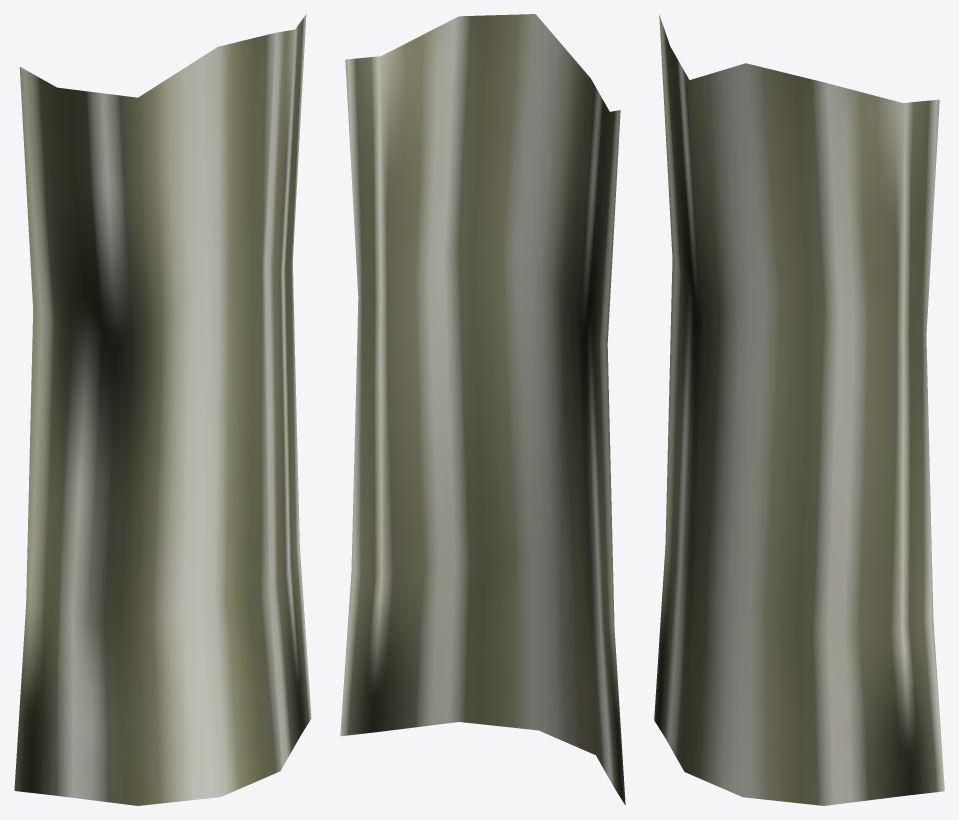
Rendered from pir_m_efx_chr_tubeRays.fbx.
3 renders of one model, left to right at view 1: azimuth 30°, elevation 25°; view 2: azimuth 150°, elevation 25°; view 3: azimuth 330°, elevation 25°, orthographic. The views are drawn at different scales.
Visible parts, largest first — view 1: pPipe3; view 2: pPipe3; view 3: pPipe3.
Part boxes in pixels (x1,y1,x2,y2): pPipe3: (14, 14, 311, 805); pPipe3: (340, 14, 625, 805); pPipe3: (654, 15, 944, 805).
Bounding box in the file's own units: 346 × 832 × 117.
1 material, 1 textured.
